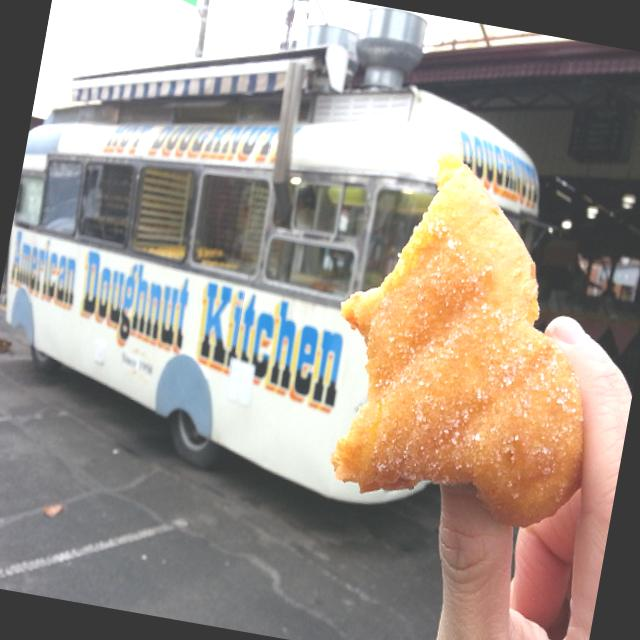Vehicle: (0, 0, 564, 531)
